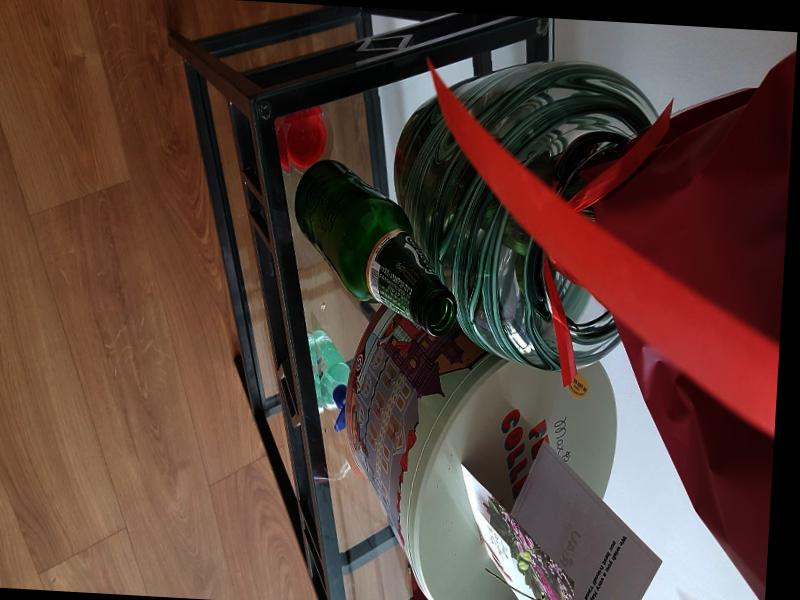Beer: (288, 155, 464, 336)
